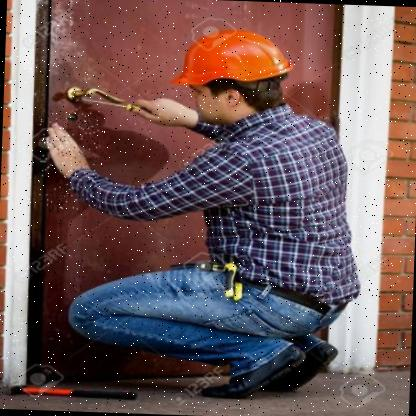bota: (201, 330, 305, 402)
capacete: (174, 27, 298, 125)
